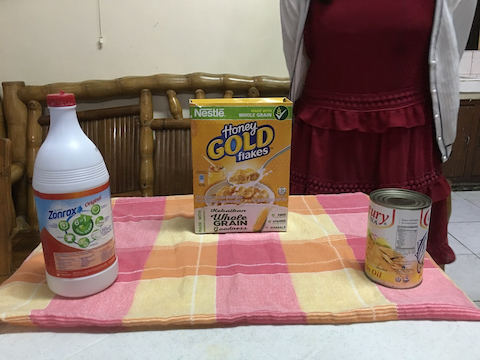bottle: (29, 89, 125, 301)
box: (185, 92, 299, 237)
can: (362, 188, 433, 291)
